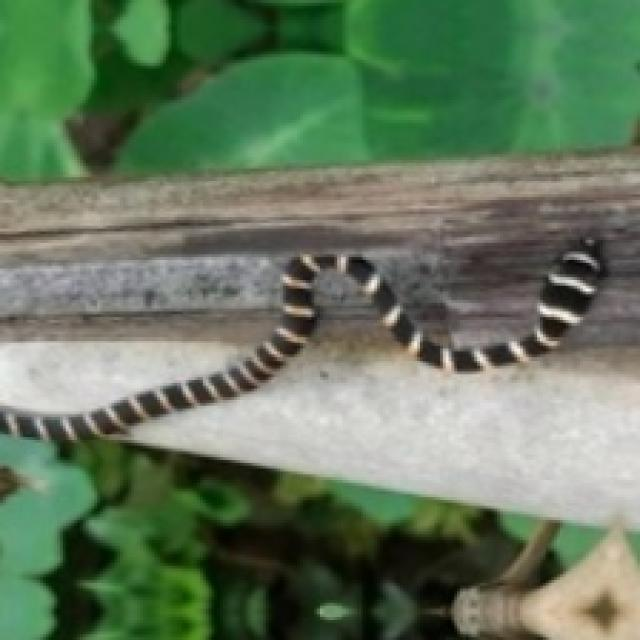paradise tree snake: (0, 237, 603, 440)
